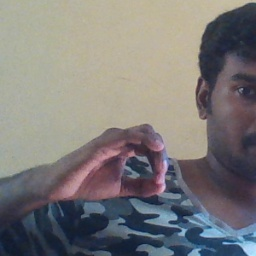O: (48, 118, 169, 204)
